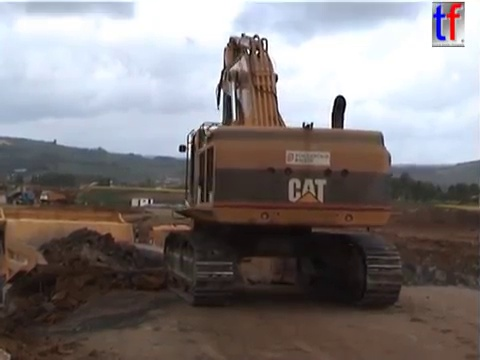excavator: (159, 28, 409, 310)
truck: (1, 206, 215, 360), (145, 220, 234, 291), (39, 189, 67, 208)
